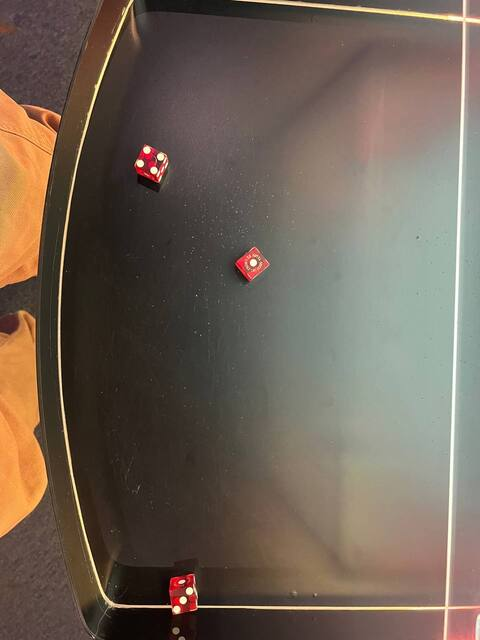four: (132, 141, 170, 178)
one: (235, 248, 270, 281)
three: (165, 584, 202, 617)
